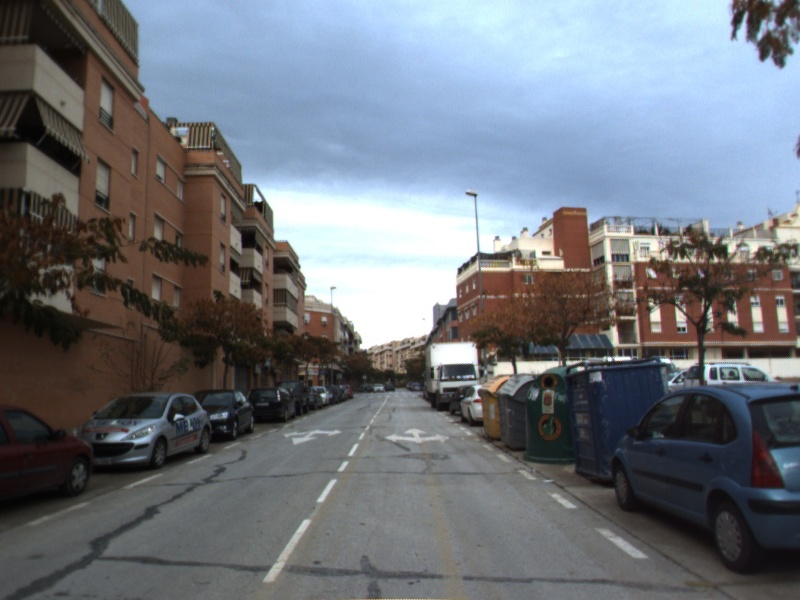STRAIGHT_LEFT_RIGHT: (383, 425, 452, 445)
